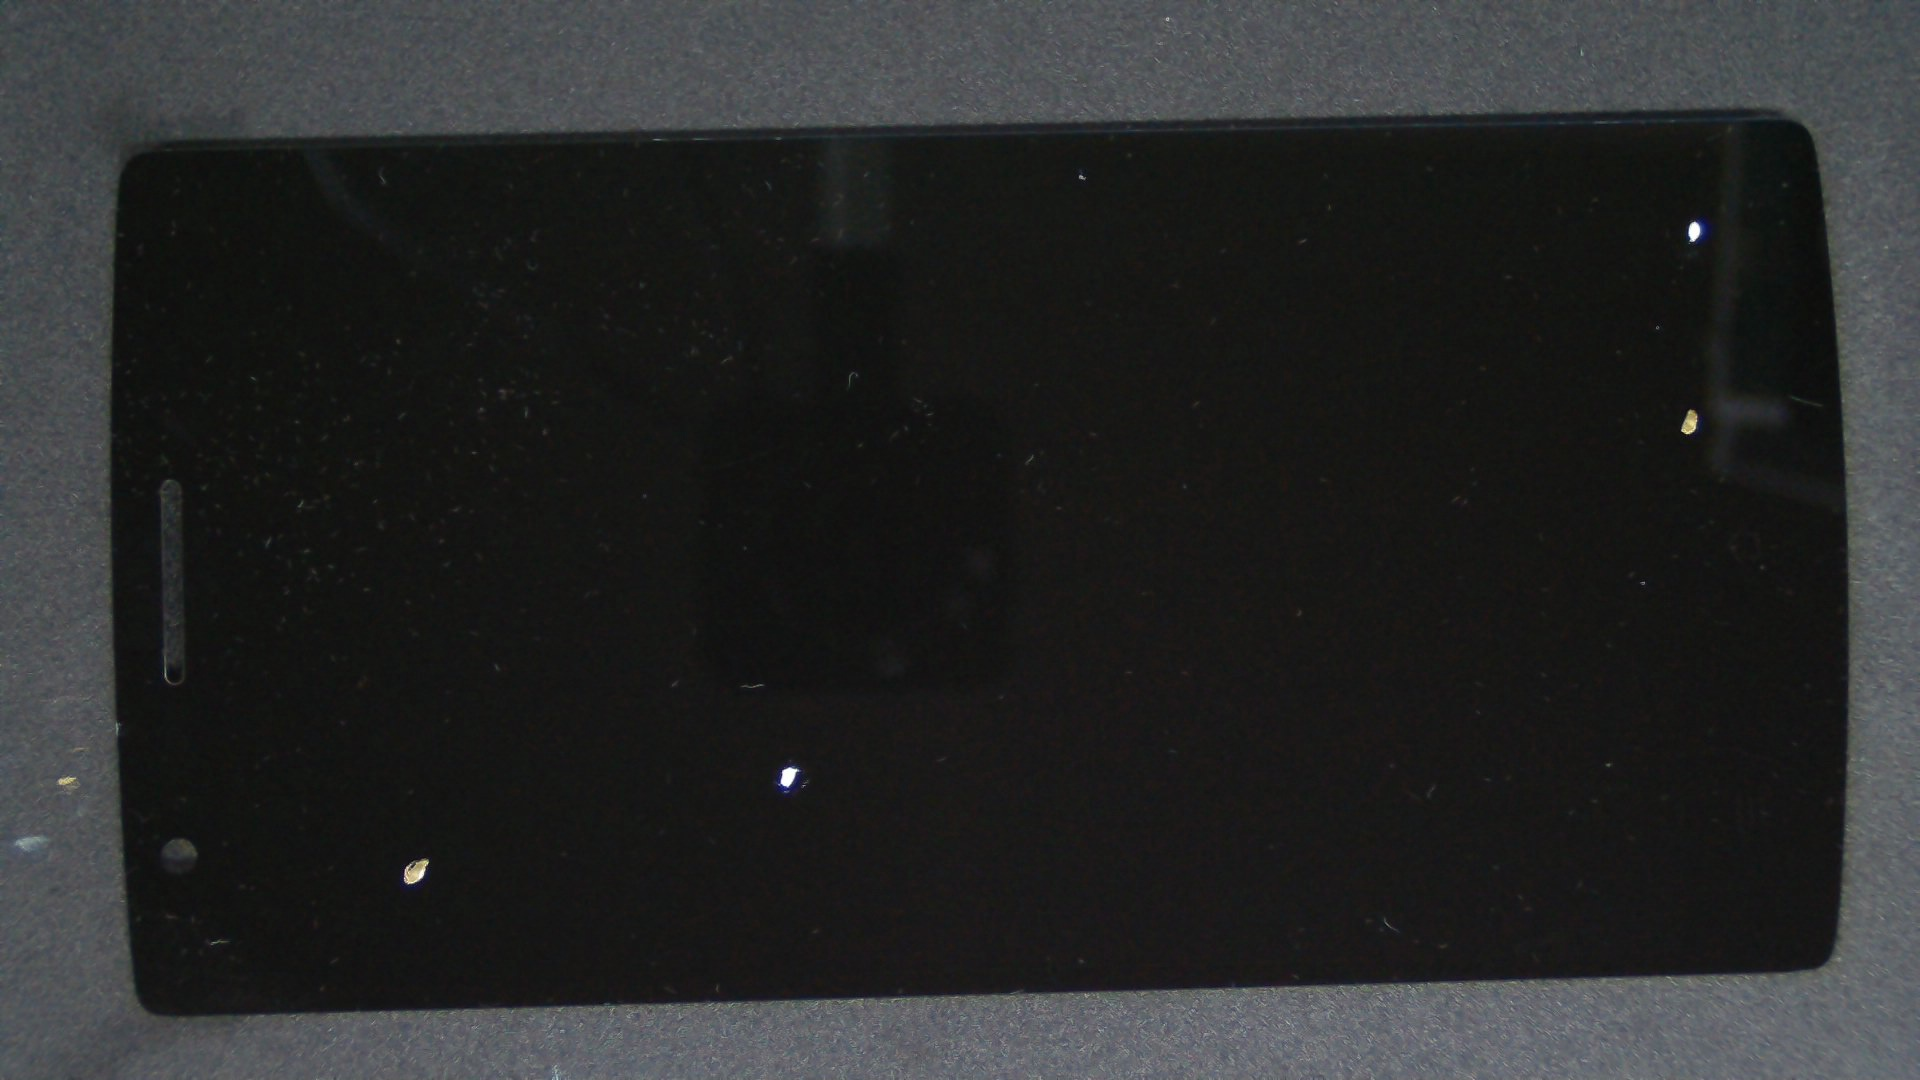oil: (402, 389, 1207, 1080), (396, 382, 1184, 1080), (845, 203, 1920, 611), (212, 427, 636, 1080), (847, 109, 1920, 331)
